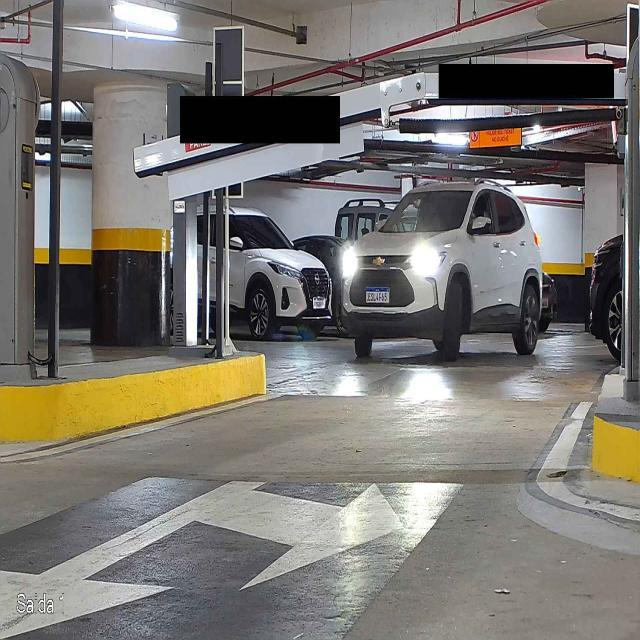mercosul_plate: (364, 286, 391, 305)
